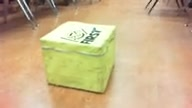cube: (40, 21, 117, 94)
